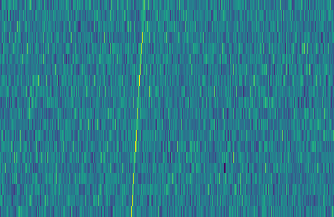signal: (125, 0, 148, 217)
